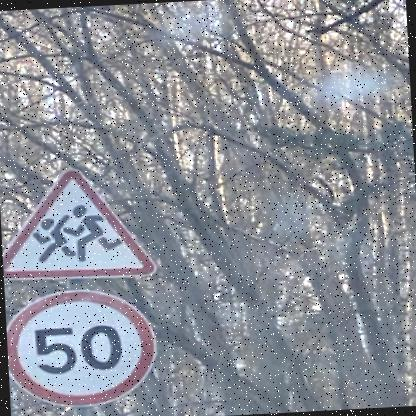speedlimit: (4, 285, 158, 410)
